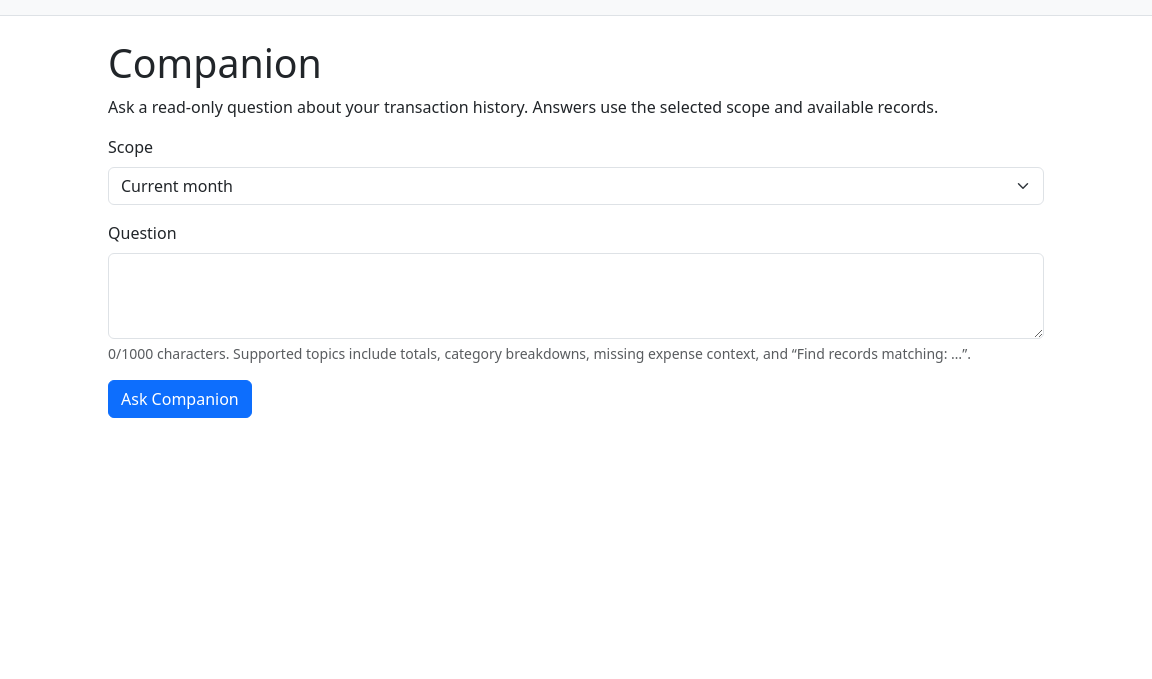
Test: CompanionPage › defaults to current month and shows the scoped answer and expandable evidence
Expected: the dropdown labelled "Scope" shows "Current month", [108,167,1044,205]
Type "How much did I spend?" into the text box labelled "Question" at (576, 296), box [108,253,1044,339]
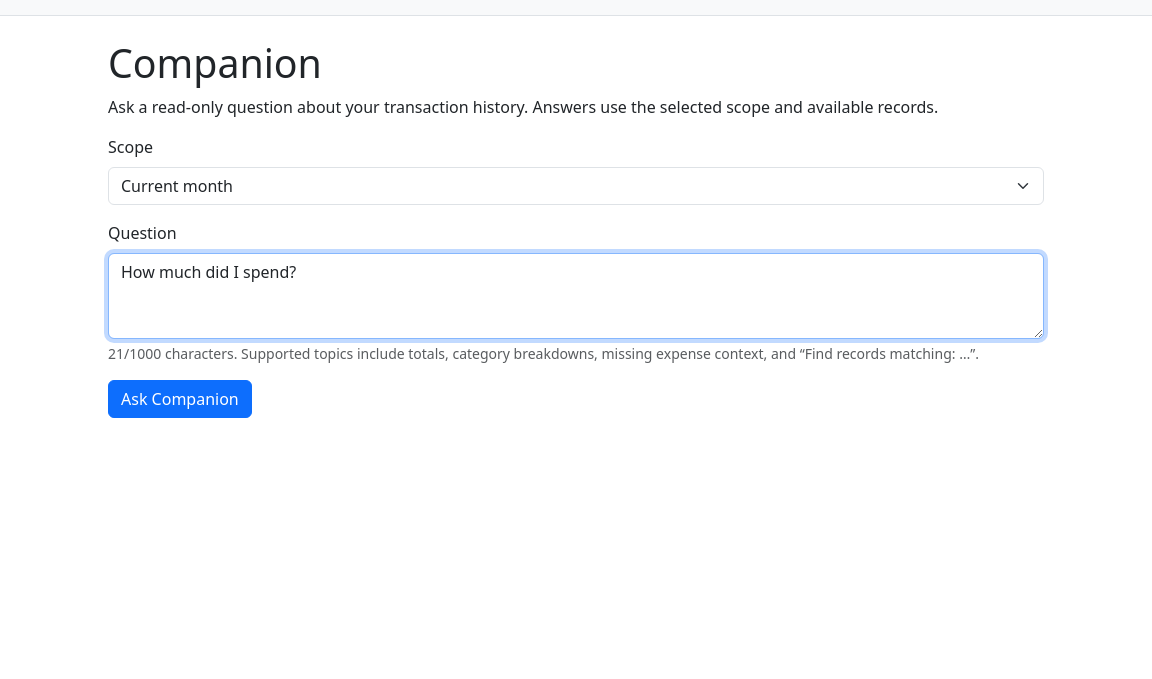
Click the button "Ask Companion" at (180, 399), box [108,380,252,418]
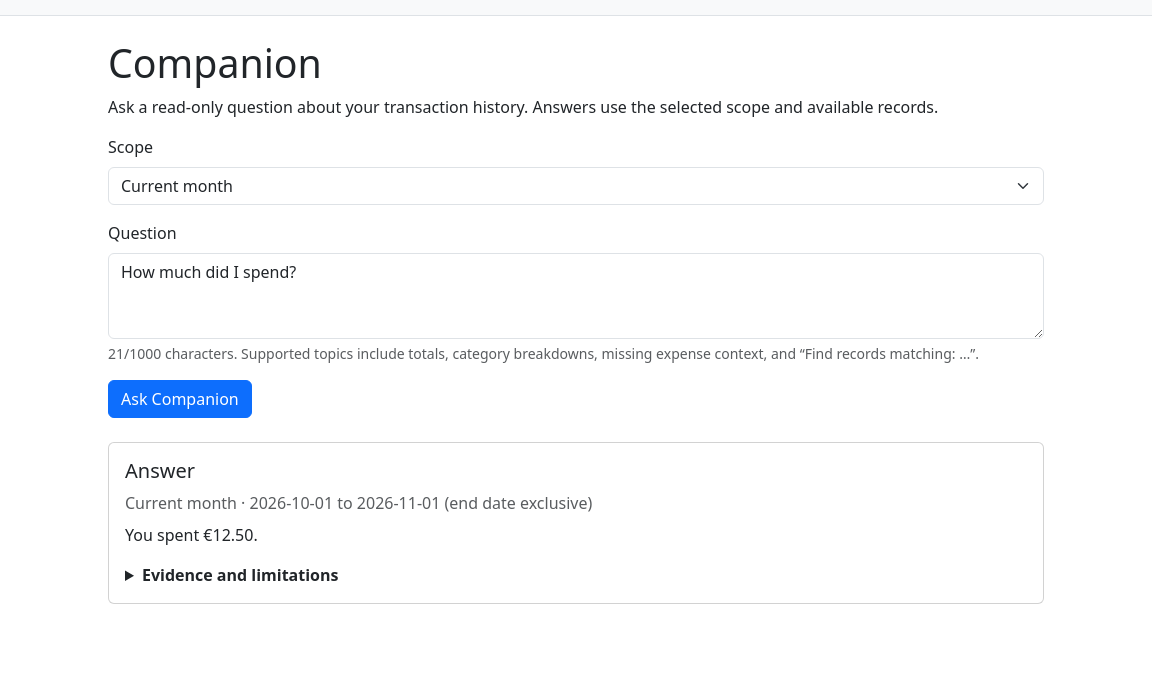
Expected: the text "You spent €12.50." is shown, [125,524,258,546]
Expected: the text "Current month · 2026-10-01" is shown, [125,492,592,514]
Click the heading "Evidence and limitations" at (240, 575), box [142,564,338,586]
(page scrolled)
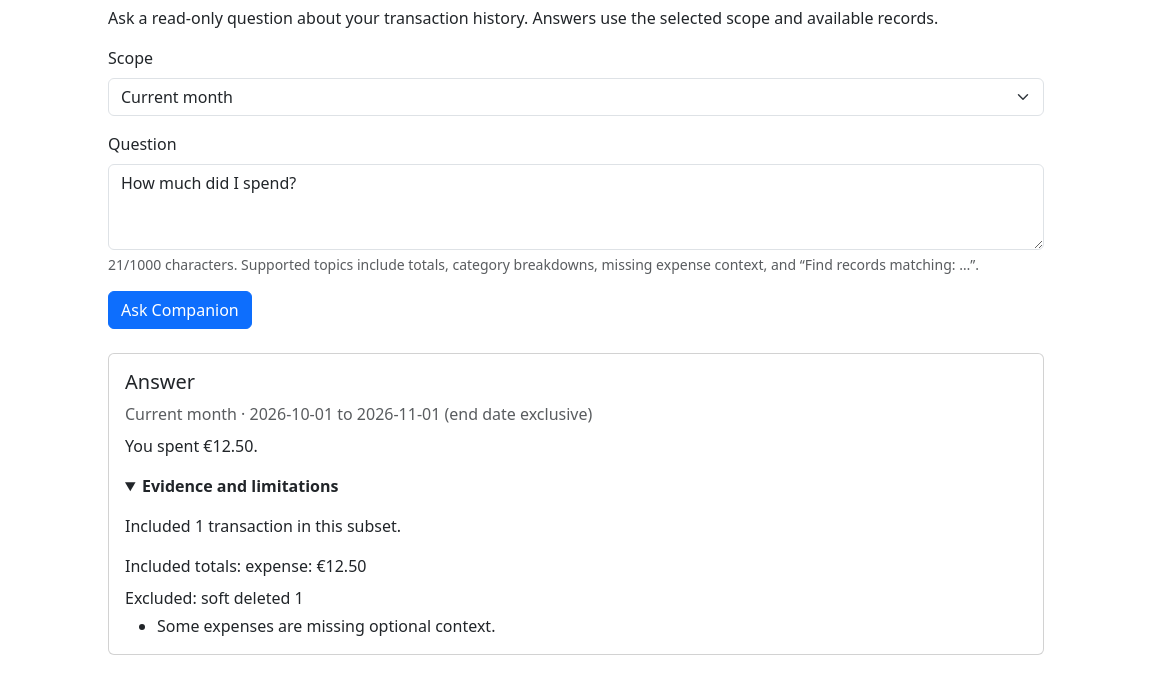
Expected: the text "Included totals: expense: €12.50" is shown, [125,555,366,577]
Expected: the text "Excluded: soft deleted 1" is shown, [125,587,304,609]
Expected: the list item "Some expenses are missing optional context." is shown, [157,615,495,637]
